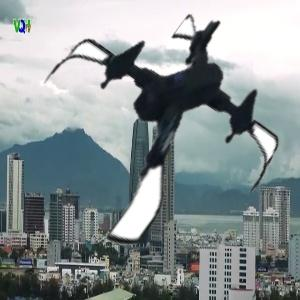drone: (34, 1, 286, 253)
